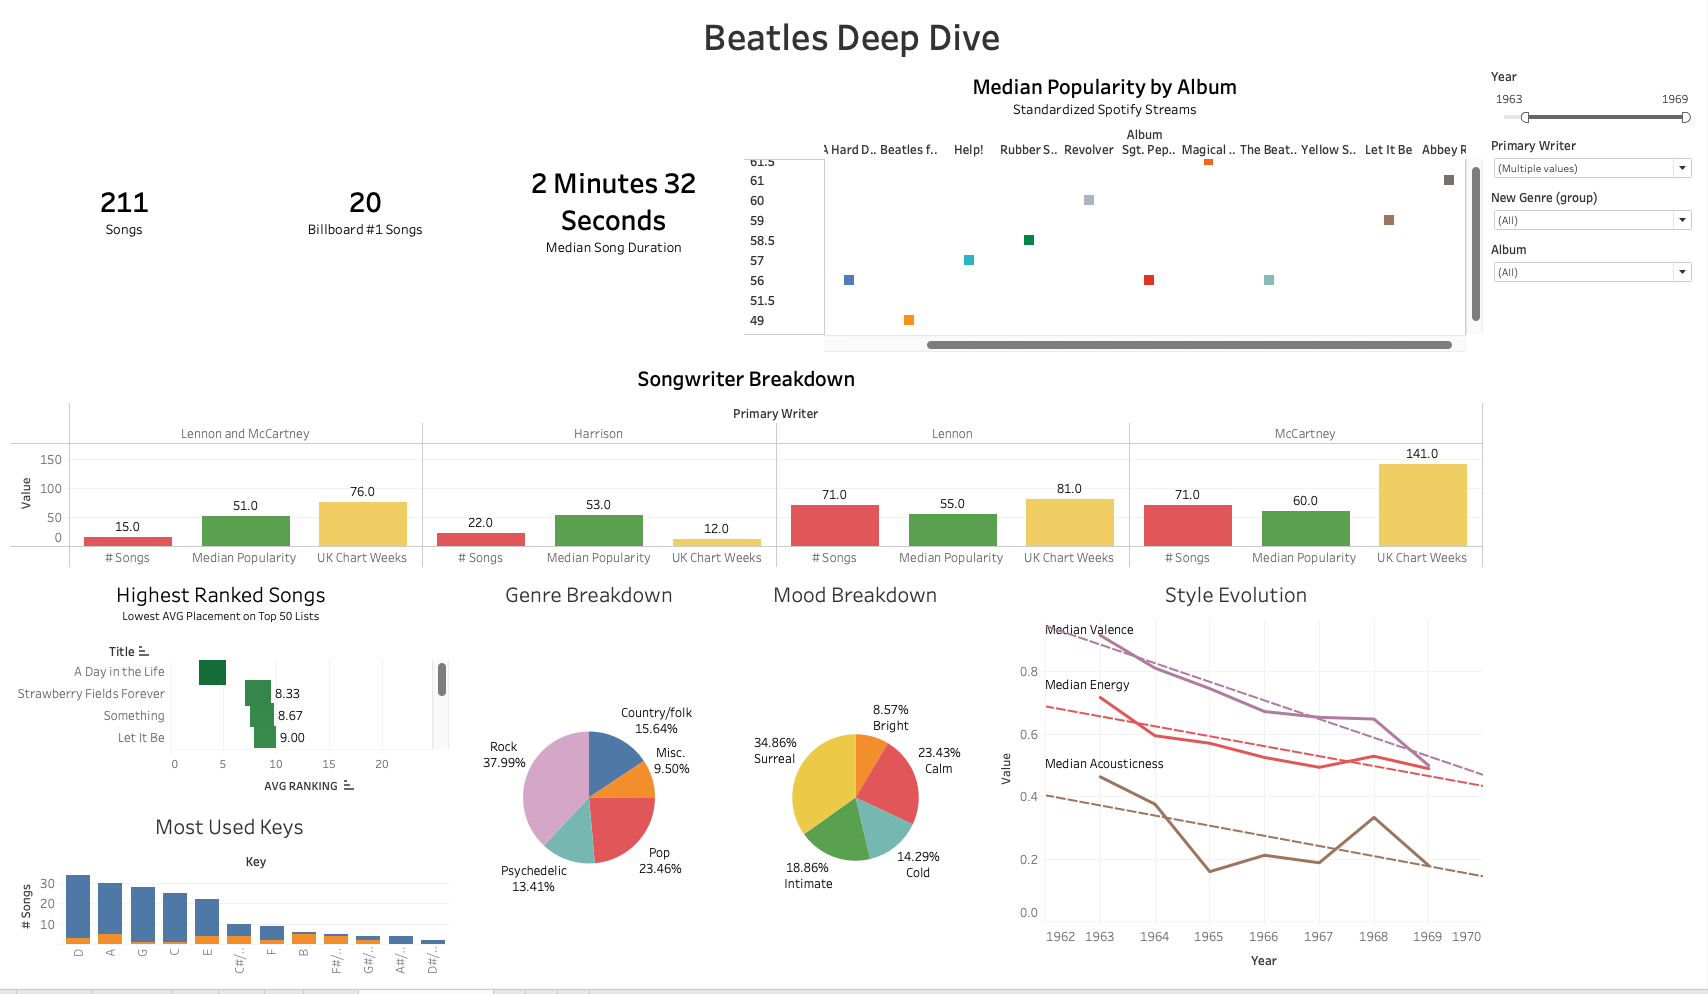

This screenshot's page, from the dashboard's own definition file:
{"tool":"tableau","page":{"name":"Beatles Deep Dive","canvas":[1000,1000],"units":"permille","ordinal":0},"visuals":[{"type":"title","box":[4.7,8.6,990.6,59.9]},{"type":"text","box":[4.7,68.5,147.8,281.3]},{"type":"text","box":[152.5,68.5,147.8,281.3]},{"type":"text","box":[300.4,68.5,147.8,281.3]},{"type":"worksheet","title":"albums","mark":"Automatic","rows":["Popularity"],"cols":["Album"],"box":[448.2,68.5,423.1,281.3]},{"type":"filter","title":"style evolution","param":"[federated.083br0l0zph0eq11xte3j18cgilj].[none:Year:qk]","box":[871.3,68.5,124,73.8]},{"type":"filter","title":"songwriter","param":"[federated.083br0l0zph0eq11xte3j18cgilj].[none:primaryWriter:nk]","box":[871.3,142.3,124,55.6]},{"type":"filter","title":"genre","param":"[federated.083br0l0zph0eq11xte3j18cgilj].[New Genre (group)]","box":[871.3,197.9,124,55.6]},{"type":"filter","title":"albums","param":"[federated.083br0l0zph0eq11xte3j18cgilj].[none:Album:nk]","box":[871.3,253.5,124,55.6]},{"type":"worksheet","title":"songwriter","mark":"Automatic","cols":["primaryWriter"],"box":[4.7,349.7,866.6,230.6]},{"type":"worksheet","title":"high ranked","mark":"Square","rows":["Title"],"cols":["Calculation_3551726441775107"],"box":[4.7,580.3,261.3,233.6]},{"type":"worksheet","title":"genre","mark":"Pie","box":[266,580.3,159.3,411.1]},{"type":"worksheet","title":"mood","mark":"Pie","box":[425.3,580.3,152.7,411.1]},{"type":"worksheet","title":"style evolution","mark":"Line","cols":["Year"],"box":[578,580.3,293.3,411.1]},{"type":"worksheet","title":"keys","mark":"Automatic","rows":["Title"],"cols":["Key"],"box":[4.7,813.9,261.3,177.5]}]}

Visuals, with their boxes on the dashboard's canvas, which has no fixed pixel size, in thousandths of its width and height (x1, y1, x2, y2). These are canvas units, not pixel positions in the 1708x994 screenshot, which may show the page scaled, cropped or inside an application window:
title: left=5, top=9, right=995, bottom=68
text: left=5, top=68, right=152, bottom=350
text: left=152, top=68, right=300, bottom=350
text: left=300, top=68, right=448, bottom=350
"albums" worksheet: left=448, top=68, right=871, bottom=350
"style evolution" filter: left=871, top=68, right=995, bottom=142
"songwriter" filter: left=871, top=142, right=995, bottom=198
"genre" filter: left=871, top=198, right=995, bottom=254
"albums" filter: left=871, top=254, right=995, bottom=309
"songwriter" worksheet: left=5, top=350, right=871, bottom=580
"high ranked" worksheet (Square marks): left=5, top=580, right=266, bottom=814
"genre" worksheet (Pie marks): left=266, top=580, right=425, bottom=991
"mood" worksheet (Pie marks): left=425, top=580, right=578, bottom=991
"style evolution" worksheet (Line marks): left=578, top=580, right=871, bottom=991
"keys" worksheet: left=5, top=814, right=266, bottom=991
